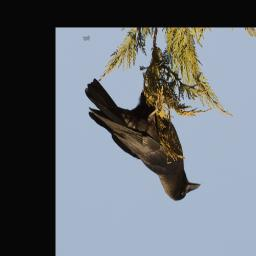Crow: (85, 73, 203, 205)
